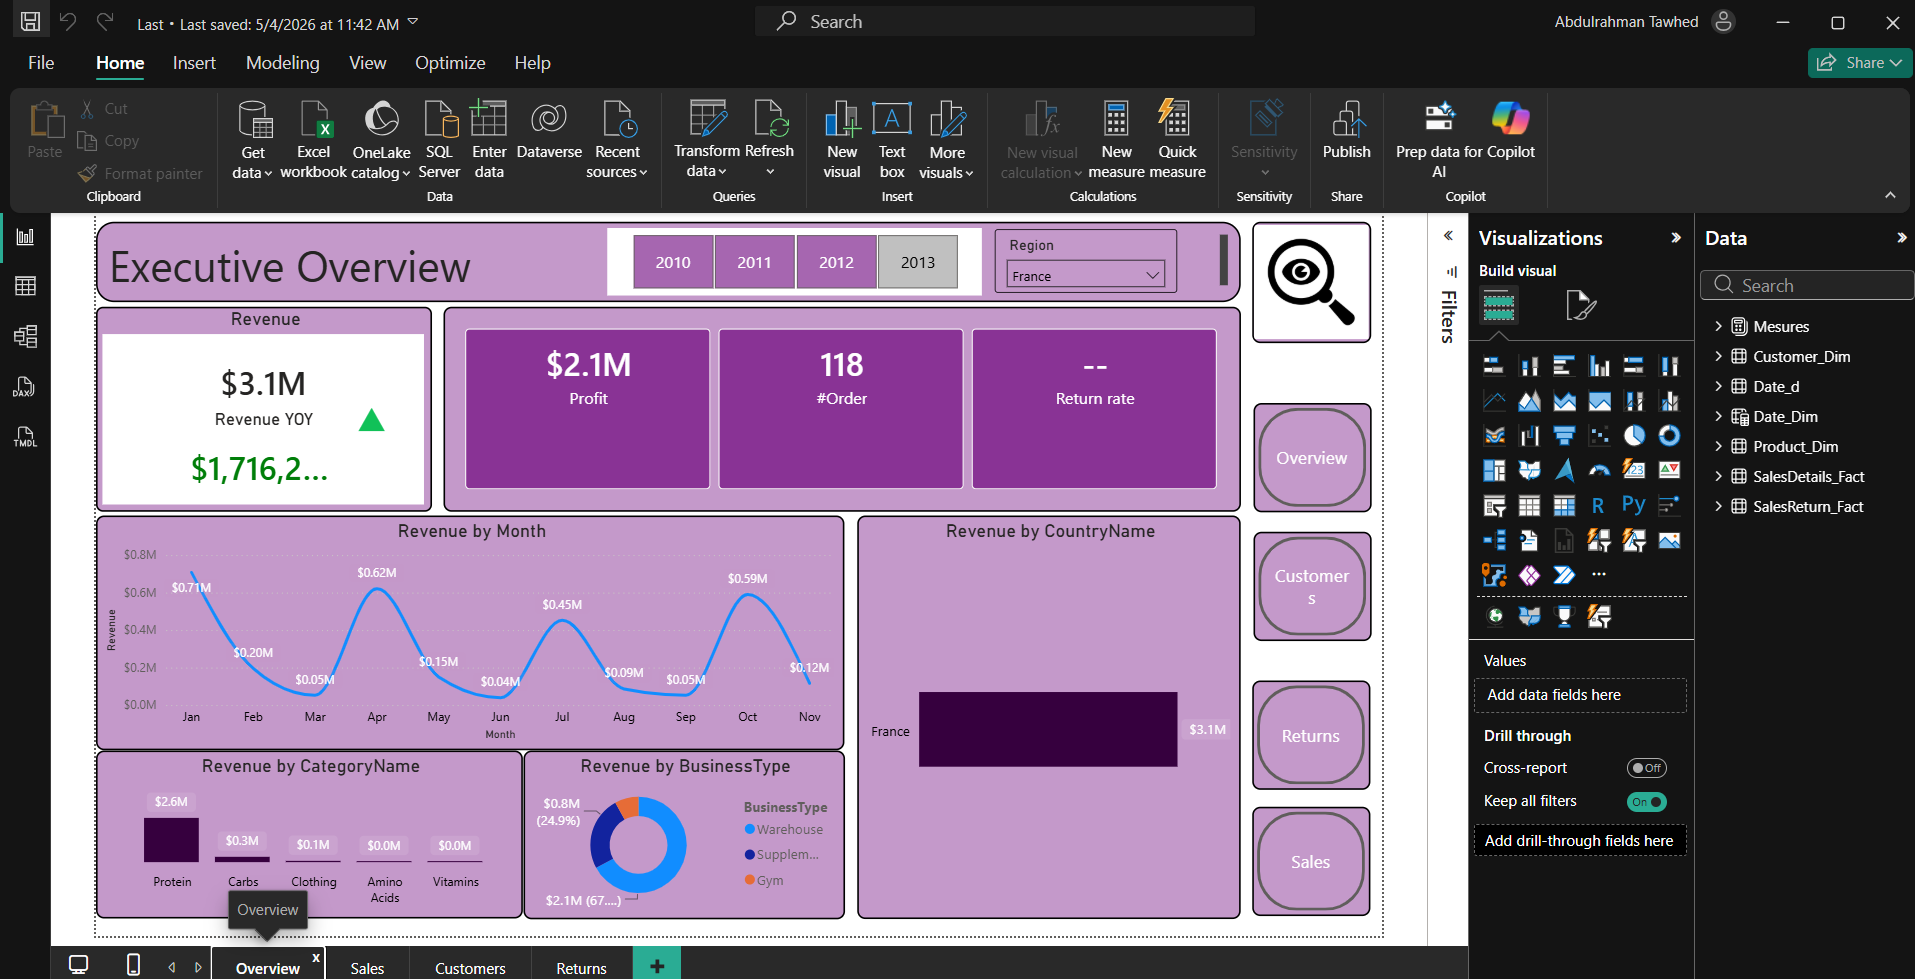

This screenshot's page, from the dashboard's own definition file:
{"tool":"powerbi","page":{"name":"Overview","canvas":[1280,720],"ordinal":0},"visuals":[{"type":"textbox","box":[0,8.7,1139.5,79.6],"z":0},{"type":"slicer","fields":{"Values":["Date_Dim.Year"]},"box":[508.8,14.9,373.2,67.2],"z":1000},{"type":"actionButton","box":[1152.1,189.1,117.4,108.8],"z":1000,"group":"g1"},{"type":"slicer","fields":{"Values":["Customer_Dim.Region"]},"box":[894.4,16.2,181.6,63.4],"z":2000},{"type":"barChart","fields":{"Y":["Mesures.Revenue"],"Category":["Customer_Dim.CountryName"]},"box":[757.6,301,381.9,401.8],"z":3000},{"type":"actionButton","box":[1152.1,316.7,117.4,108.8],"z":3000,"group":"g1"},{"type":"lineChart","fields":{"Y":["Mesures.Revenue"],"Category":["Date_Dim.Month"]},"box":[0,301,745.1,233.9],"z":4000},{"type":"actionButton","box":[1150.7,464.9,117.4,108.8],"z":5000,"group":"g1"},{"type":"donutChart","fields":{"Y":["Mesures.Revenue"],"Category":["Customer_Dim.BusinessType"]},"box":[425.4,534.9,319.7,167.9],"z":5000},{"type":"cardVisual","fields":{"Data":["Mesures.Profit","Mesures.#Order","Mesures.Return rate"]},"box":[345.8,93.3,793.6,204],"z":6000},{"type":"cardVisual","title":"Revenue","fields":{"Data":["Mesures.Revenue"]},"box":[0,93.3,334.6,204],"z":7000},{"type":"actionButton","box":[1150.7,590.5,117.4,108.8],"z":7000,"group":"g1"},{"type":"cardVisual","title":"Revenue YOY","fields":{"Data":["Mesures.YOY"]},"box":[64.7,195.3,205.3,93.3],"z":8000},{"type":"cardVisual","fields":{"Data":["Mesures.Arrow"]},"box":[227.6,174.2,93.3,61],"z":9000},{"type":"columnChart","fields":{"Y":["Mesures.Revenue"],"Category":["Product_Dim.CategoryName"]},"box":[0,535,425,167.5],"z":10000},{"type":"image","box":[1150.7,8.7,118.2,120.7],"z":11000},{"type":"group","id":"g1","title":"Group 1","box":[1150.7,189.1,118.2,511.3],"z":12000}]}

Visuals, with their boxes on the page's 1280x720 design canvas (x1, y1, x2, y2). These are canvas units, not pixel positions in the 1915x979 screenshot, which may show the page scaled, cropped or inside an application window:
textbox: left=0, top=9, right=1140, bottom=88
slicer - Date_Dim.Year: left=509, top=15, right=882, bottom=82
actionButton: left=1152, top=189, right=1270, bottom=298
slicer - Customer_Dim.Region: left=894, top=16, right=1076, bottom=80
barChart - Mesures.Revenue x Customer_Dim.CountryName: left=758, top=301, right=1140, bottom=703
actionButton: left=1152, top=317, right=1270, bottom=426
lineChart - Mesures.Revenue x Date_Dim.Month: left=0, top=301, right=745, bottom=535
actionButton: left=1151, top=465, right=1268, bottom=574
donutChart - Mesures.Revenue x Customer_Dim.BusinessType: left=425, top=535, right=745, bottom=703
cardVisual - Mesures.Profit x Mesures.#Order: left=346, top=93, right=1139, bottom=297
"Revenue" cardVisual: left=0, top=93, right=335, bottom=297
actionButton: left=1151, top=590, right=1268, bottom=699
"Revenue YOY" cardVisual: left=65, top=195, right=270, bottom=289
cardVisual - Mesures.Arrow: left=228, top=174, right=321, bottom=235
columnChart - Mesures.Revenue x Product_Dim.CategoryName: left=0, top=535, right=425, bottom=702
image: left=1151, top=9, right=1269, bottom=129
"Group 1" group: left=1151, top=189, right=1269, bottom=700
